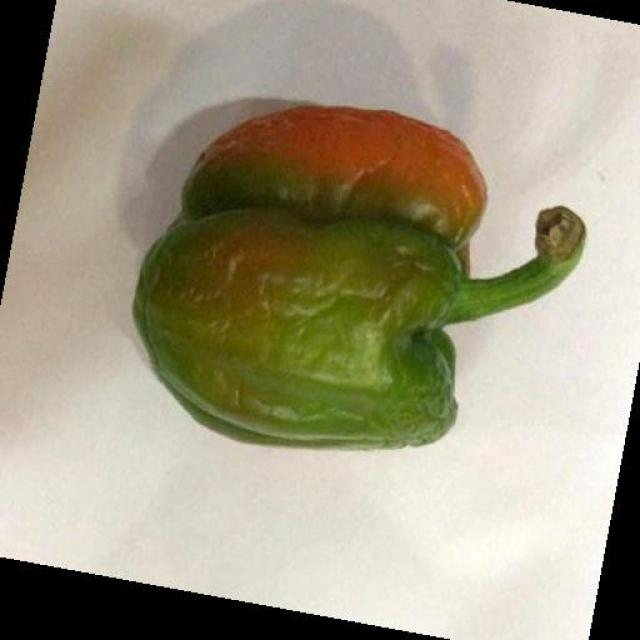Stale_Capsicum: (131, 76, 584, 458)
